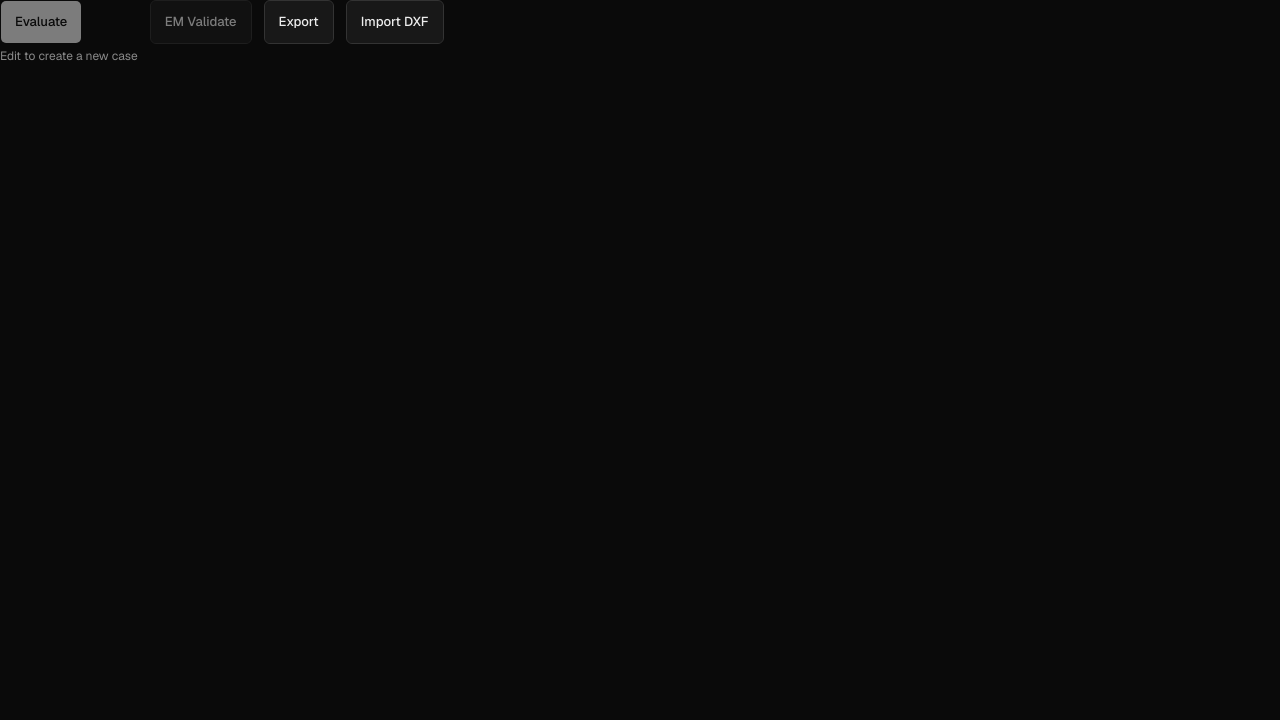
Scenario: CaseActions run report › run report disabled without evaluation
The image size is (1280, 720).
Click the button "Export" at [299, 22], box 264,0 -> 334,44
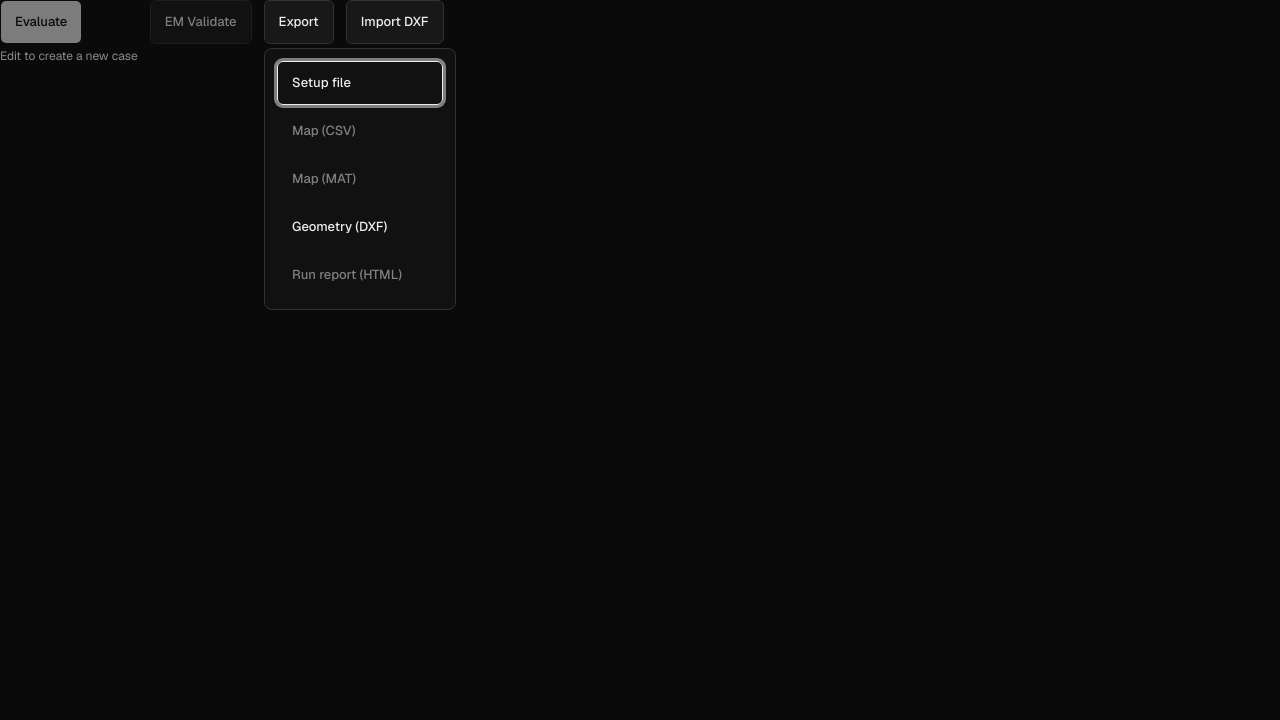
Check: the button "Run report (HTML)" is disabled, box 277,253 -> 443,297
